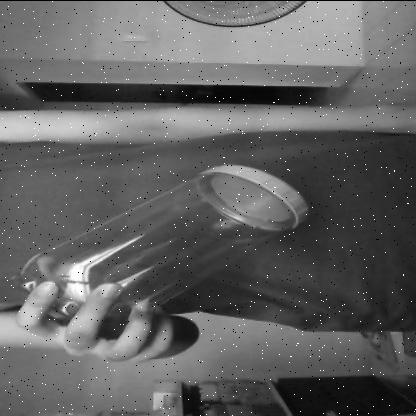Plastic Bottle: (10, 158, 316, 326)
